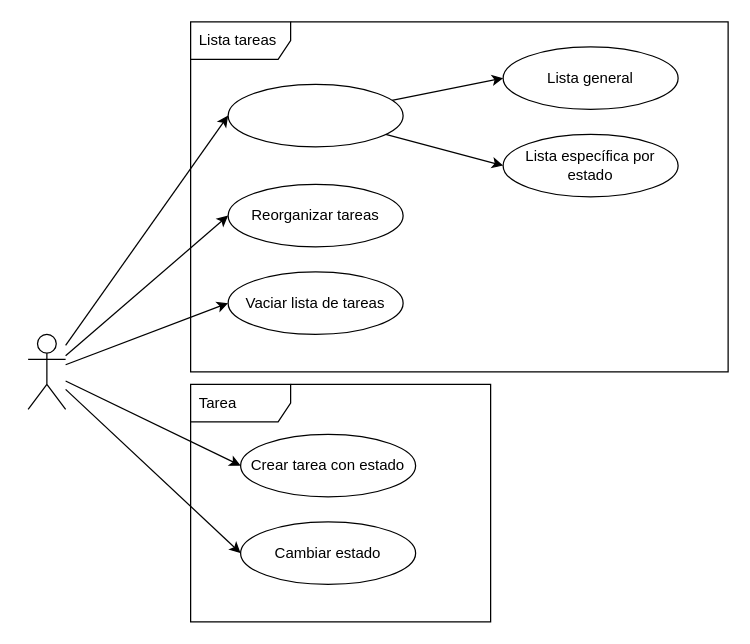
Image size: 750x644. Some labels were removed from this diagram. The centre of each missing label's shape, as x and y in pixels:
"Mostrar lista" goes at point 315,115.
"Usuario" goes at point 46,371.
